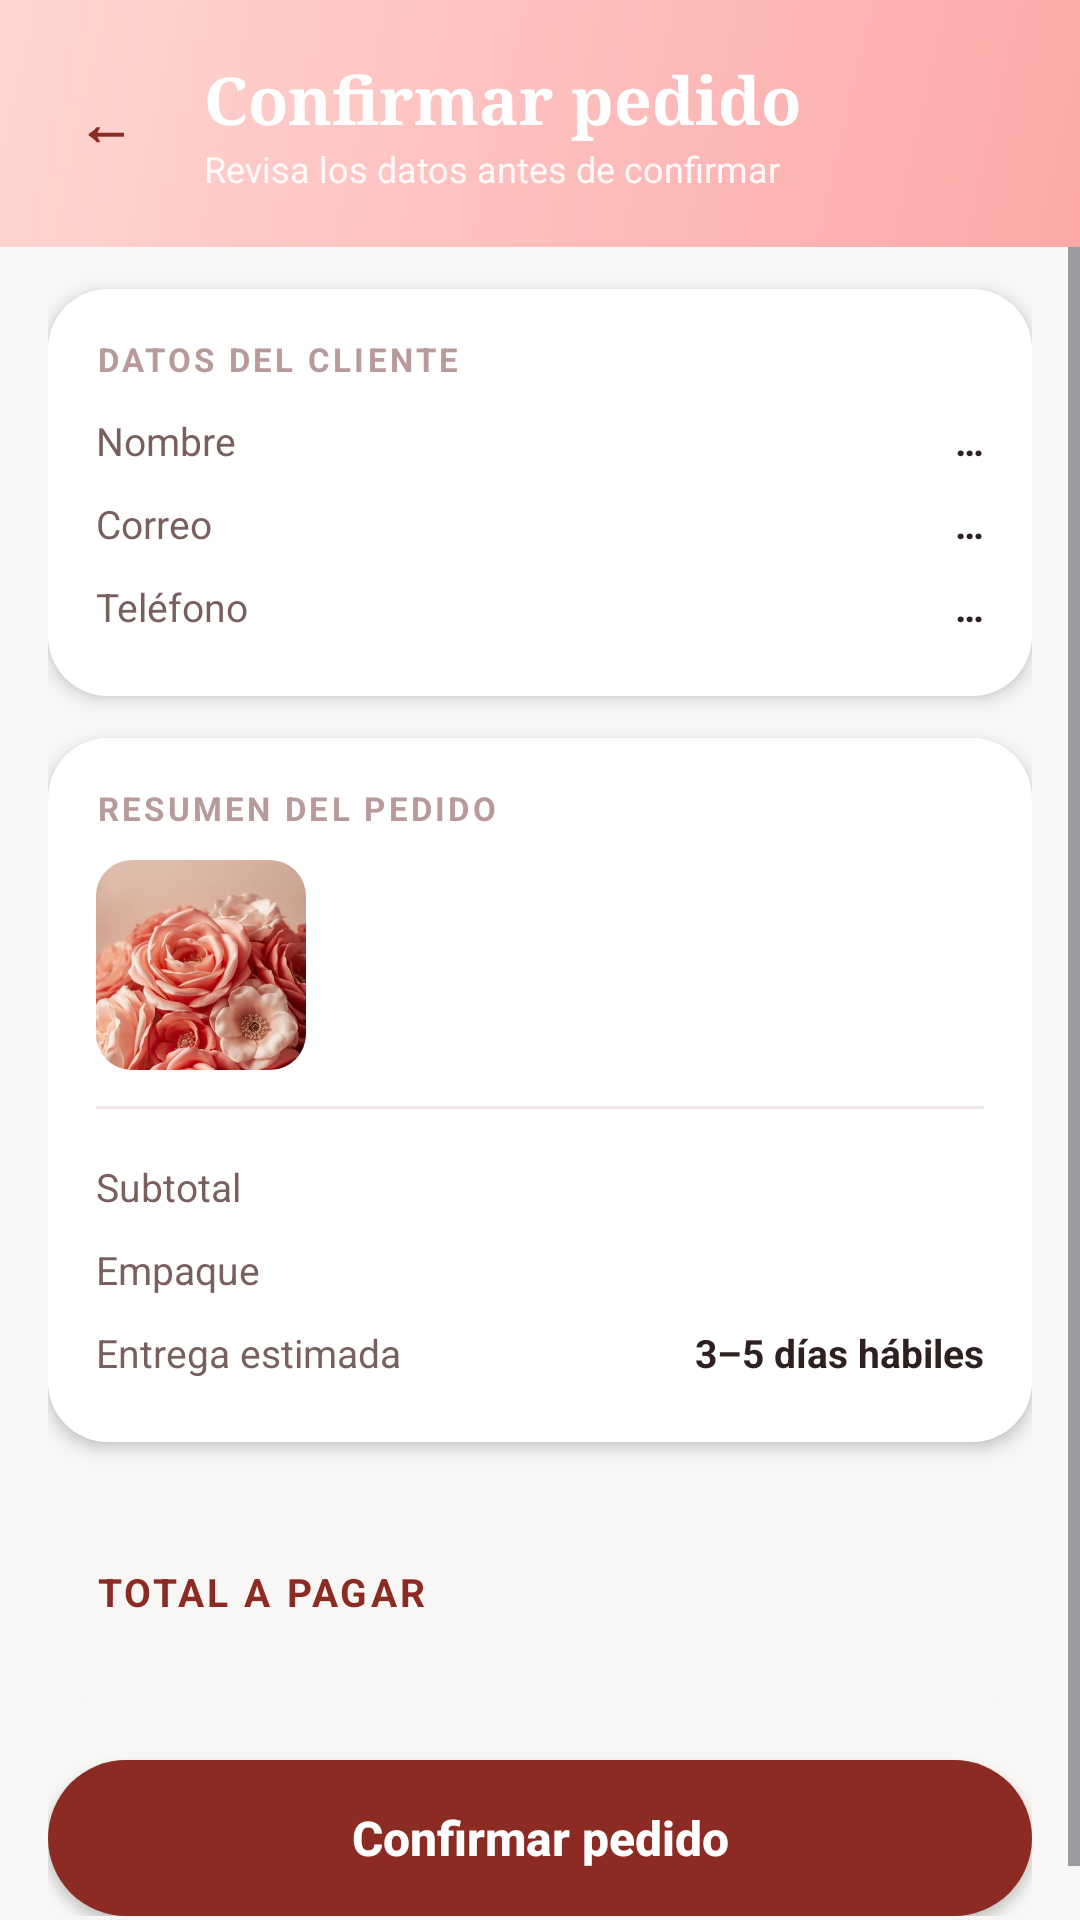

Where icons sit on this 1080px x 1920px app screen, as (x1, y1, x2, y2):
Producto: (96, 860, 306, 1070)
